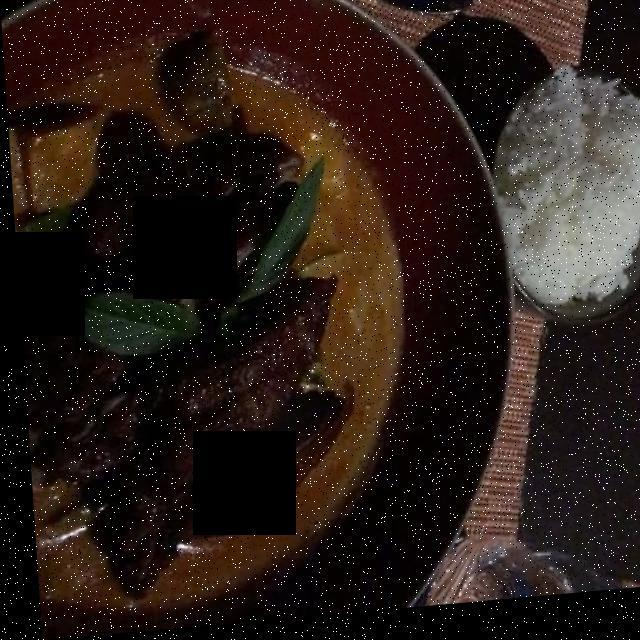rice: (494, 99, 640, 321)
